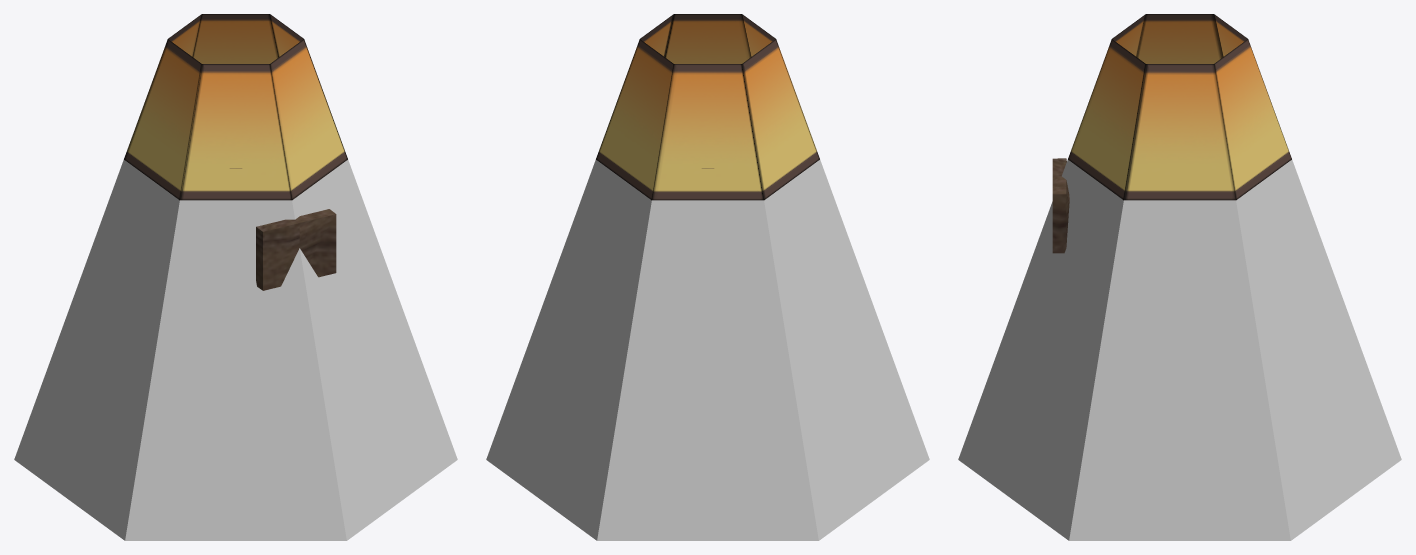
The model's file is WallLight.fbx.
3 views of the same model, side by side, from view 1: azimuth 30°, elevation 25°; view 2: azimuth 150°, elevation 25°; view 3: azimuth 270°, elevation 25° (orthographic).
Parts seen in each view (by area): view 1: LampLight, Lamp; view 2: LampLight, Lamp; view 3: LampLight, Lamp.
Part boxes in pixels (x1,y1,x2,y2): LampLight: [14, 159, 457, 540]; Lamp: [124, 14, 347, 290]; LampLight: [486, 159, 929, 540]; Lamp: [596, 14, 819, 200]; LampLight: [958, 159, 1401, 540]; Lamp: [1052, 14, 1291, 253].
Size of the model in its own units: 60.29 by 72.85 by 69.62.
